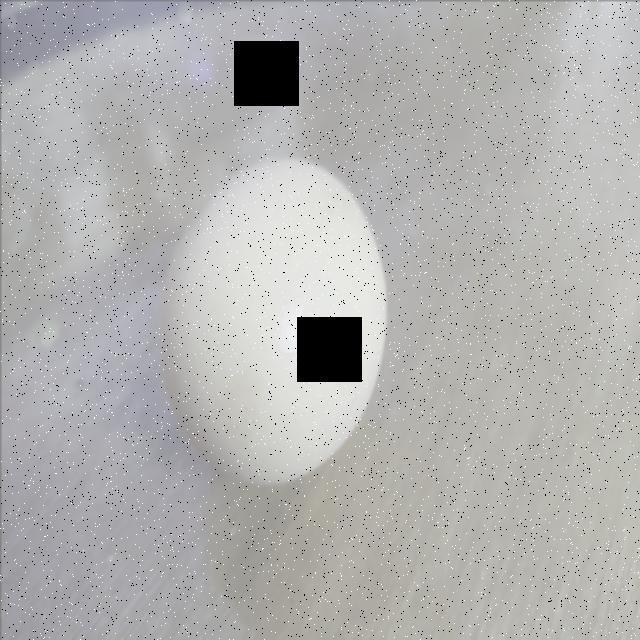egg: (151, 150, 393, 493)
